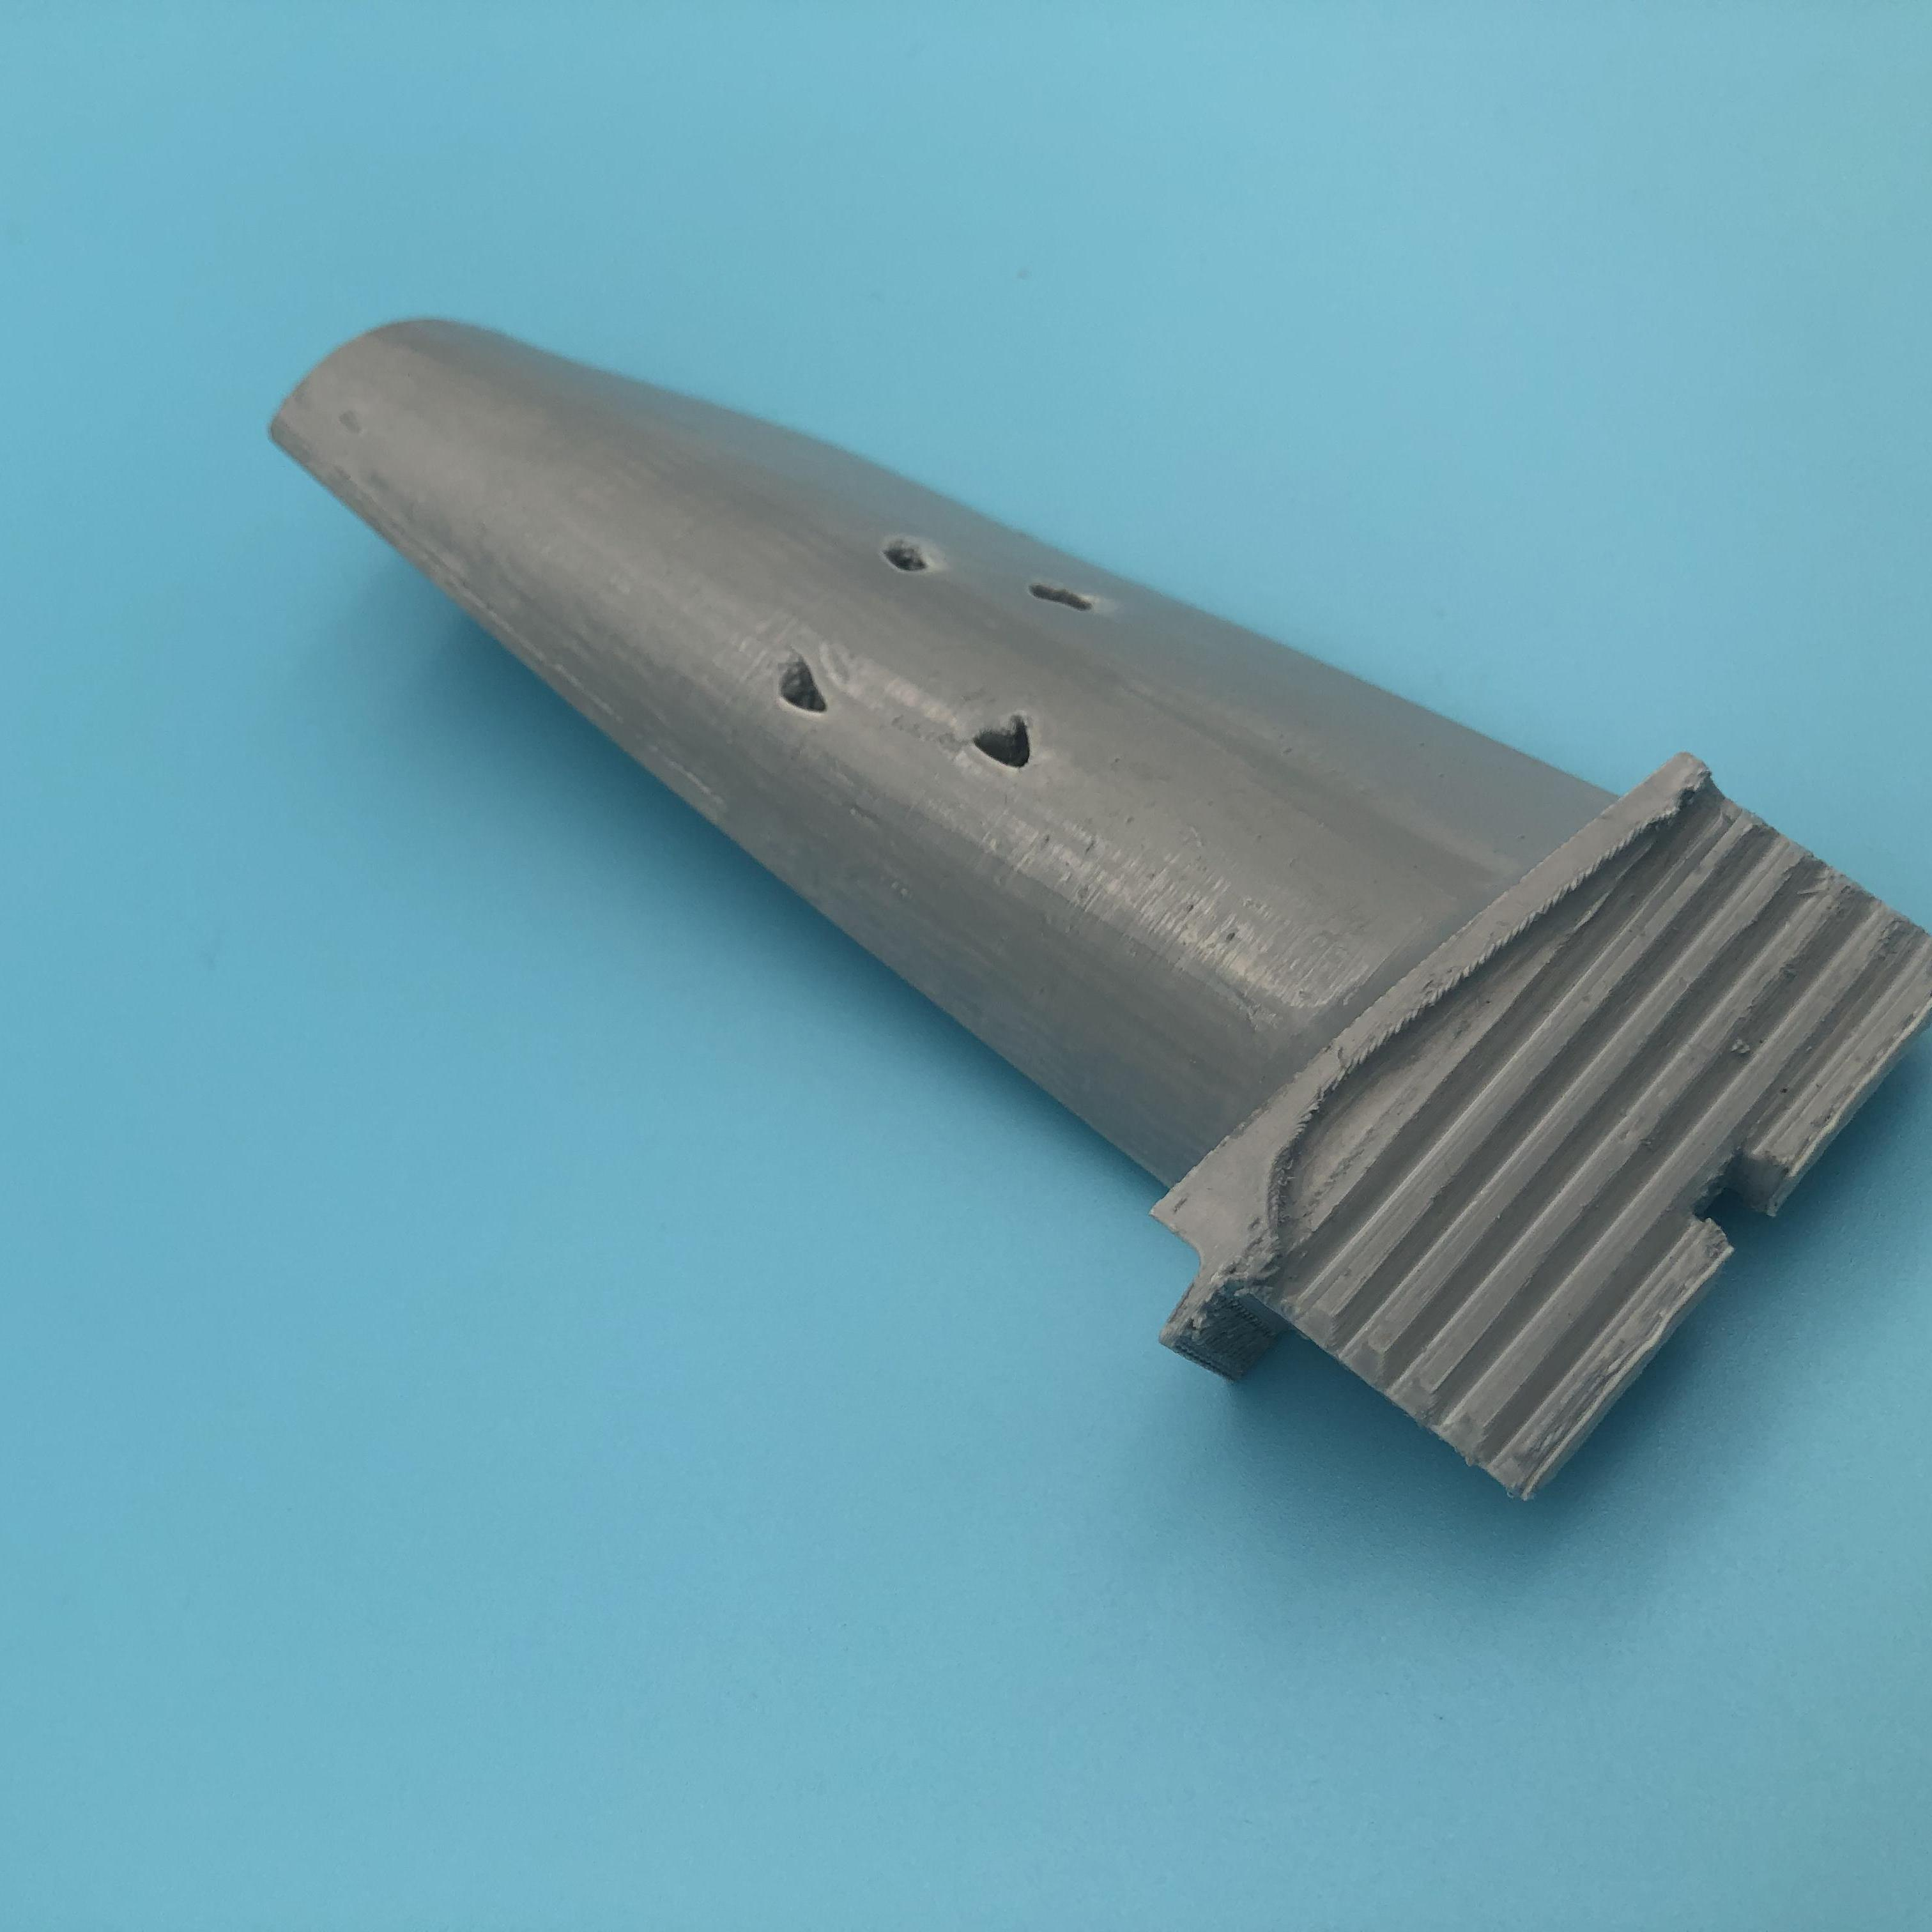breakdown: (782, 536, 1088, 782)
